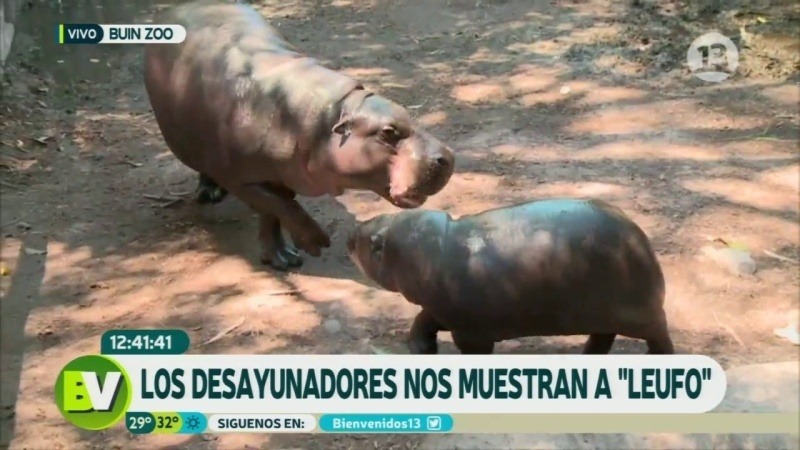hipopotamo: (135, 1, 457, 284), (331, 195, 724, 354)
